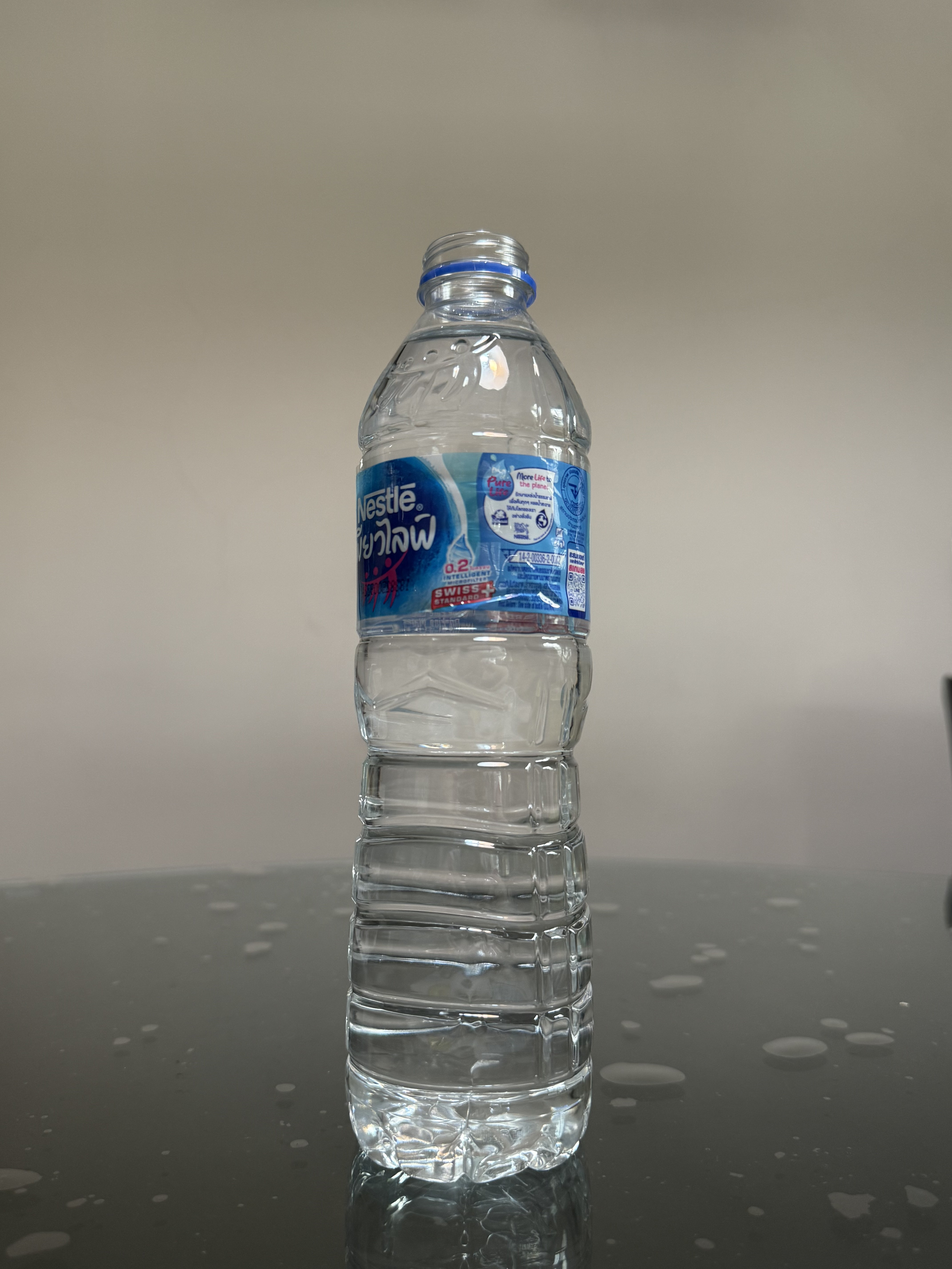no_cap: (416, 226, 539, 303)
